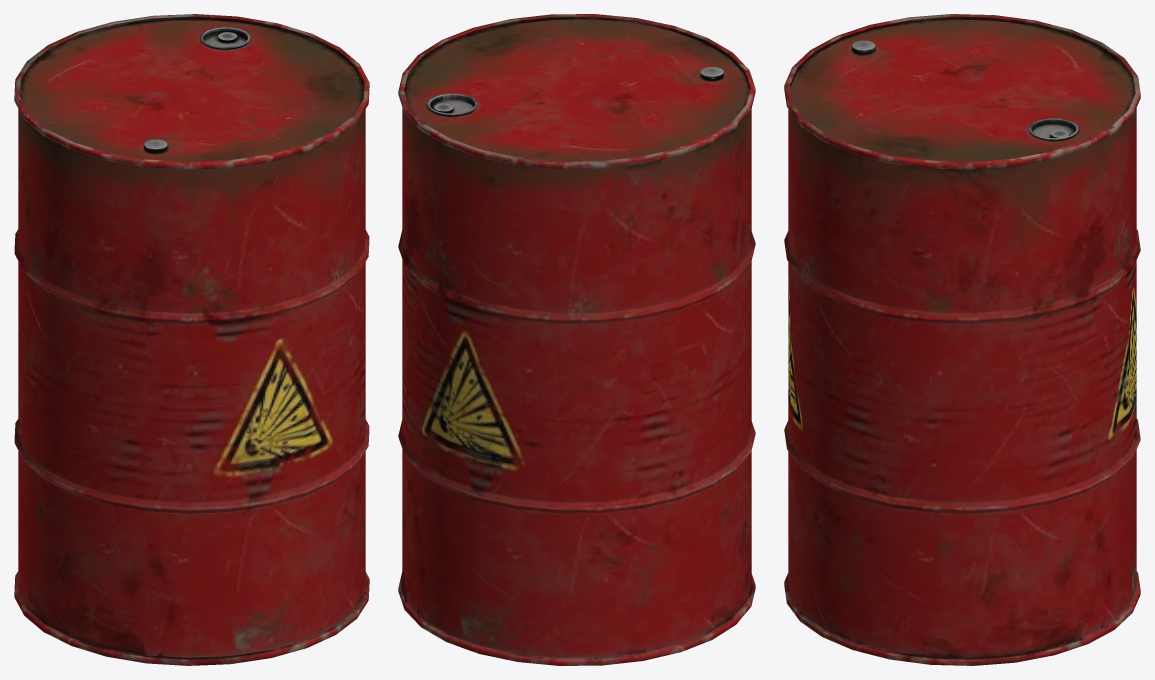
Rendered from drumRed.glb.
The picture shows the model from 3 angles, left to right: view 1: azimuth 30°, elevation 25°; view 2: azimuth 150°, elevation 25°; view 3: azimuth 270°, elevation 25°; orthographic projection.
Visible parts, largest first — view 1: Barrel_01; view 2: Barrel_01; view 3: Barrel_01.
Part boxes in pixels (x1,y1,x2,y2): Barrel_01: (14, 14, 369, 665); Barrel_01: (398, 14, 755, 665); Barrel_01: (784, 14, 1140, 665).
Bounding box in the file's own units: 0.5631 × 0.88 × 0.5631.
1 material, 1 textured.
